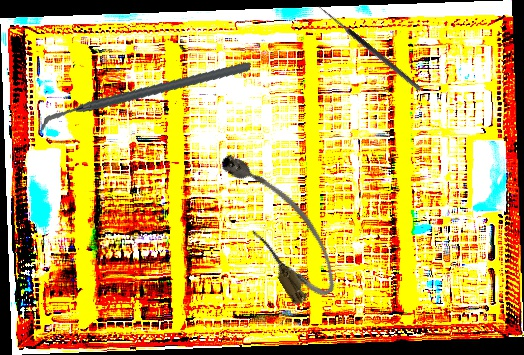Cannula: (210, 136, 348, 312)
Chopper: (38, 30, 251, 164)
Hook Surgical: (311, 3, 423, 97)
